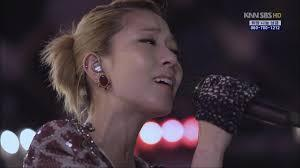earphone: (90, 62, 105, 75)
